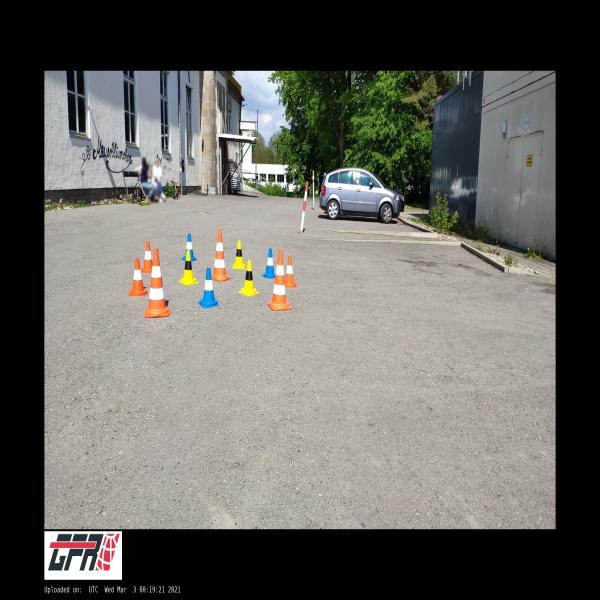blue_cone: (198, 268, 219, 308), (180, 234, 196, 261), (262, 249, 275, 279)
large_orange_cone: (145, 249, 169, 317), (267, 249, 291, 311), (211, 230, 231, 282)
orange_cone: (128, 258, 147, 296), (285, 256, 297, 286), (142, 242, 152, 273)
yellow_cone: (238, 260, 258, 296), (178, 251, 198, 285), (232, 241, 246, 269)
